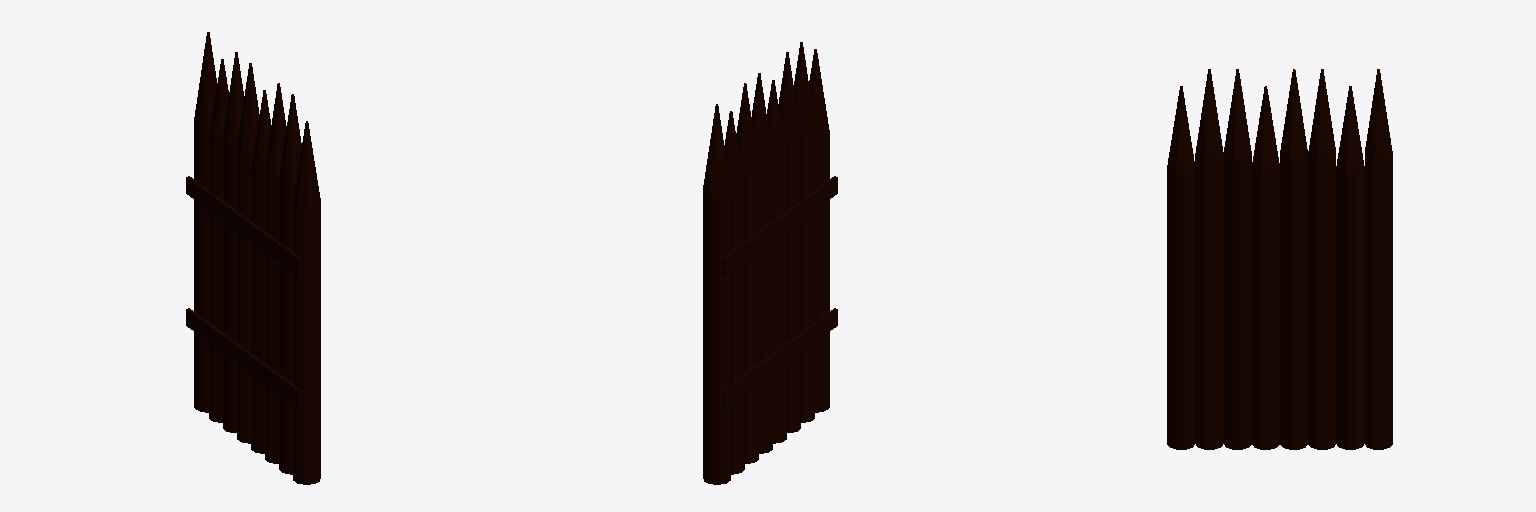
File: valla.obj
3 renders of one model, left to right at view 1: azimuth 30°, elevation 25°; view 2: azimuth 150°, elevation 25°; view 3: azimuth 270°, elevation 25°, orthographic.
Parts seen in each view (by area): view 1: Cube.001_Cube.002; view 2: Cube.001_Cube.002; view 3: Cube.001_Cube.002.
Part boxes in pixels (x1,y1,x2,y2): Cube.001_Cube.002: (186,32,320,484); Cube.001_Cube.002: (703,42,837,484); Cube.001_Cube.002: (1167,69,1392,449).
Size of the model in its own units: 0.3716 by 5.03 by 2.74.